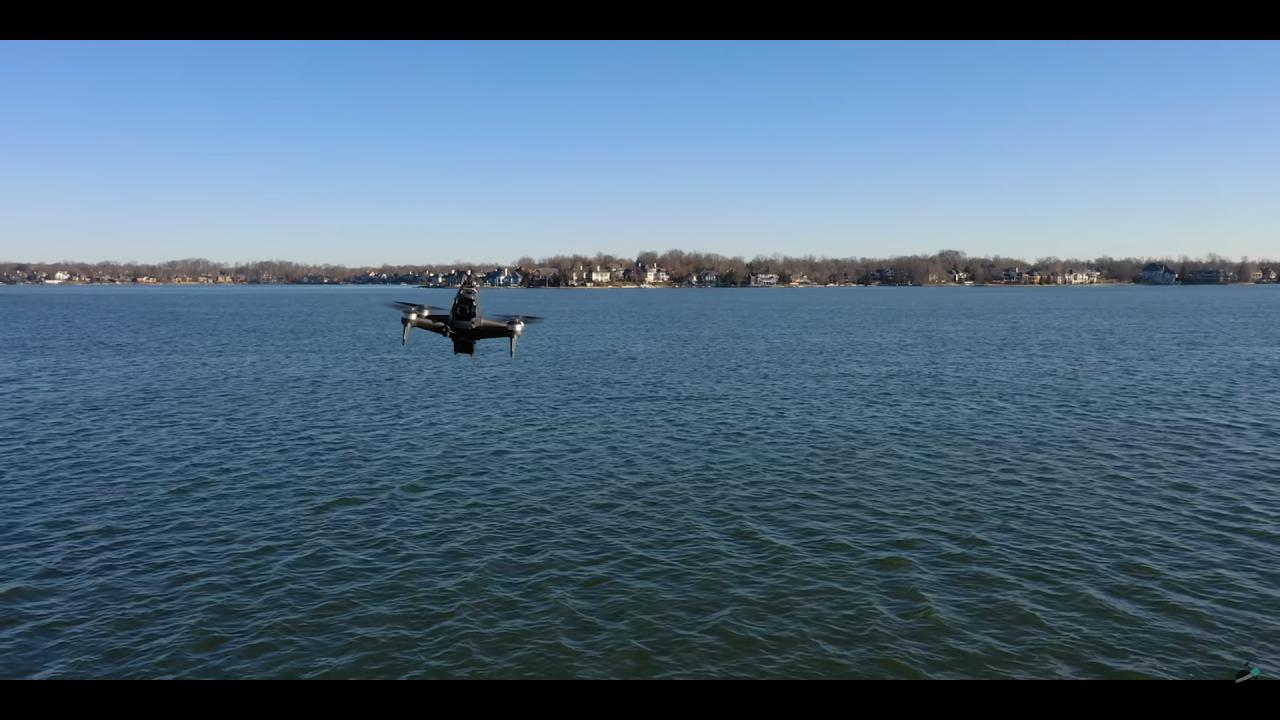Drone: (381, 270, 547, 373)
